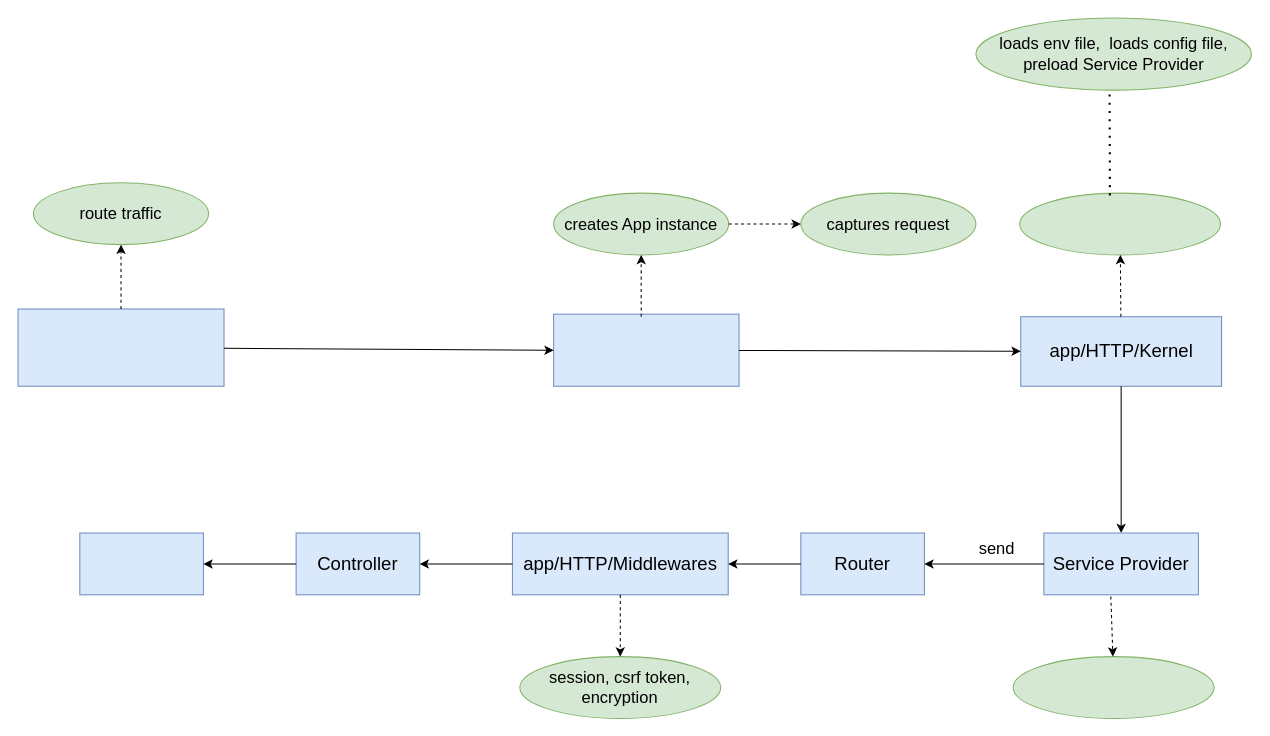
This 1270x736 diagram has some shape labels left out. The shapes that lost their labels are listed below. From the top down, each one's centre as x and y in pixels, then its label:
(x=1120, y=223): handles request with boostrapters
(x=120, y=347): Apache/Nginx config
(x=646, y=349): public/index.php
(x=141, y=563): View
(x=1113, y=687): registers and boots Service Provider
